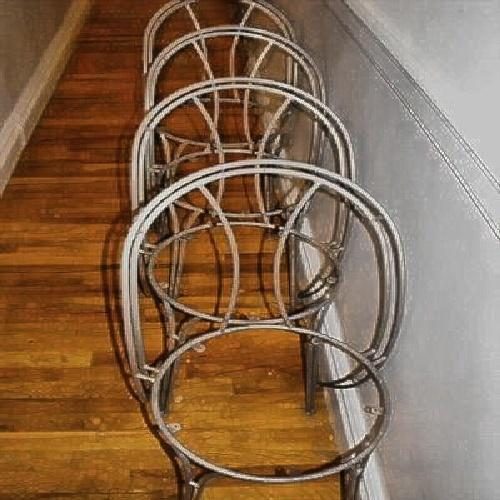chair: (141, 16, 371, 472)
